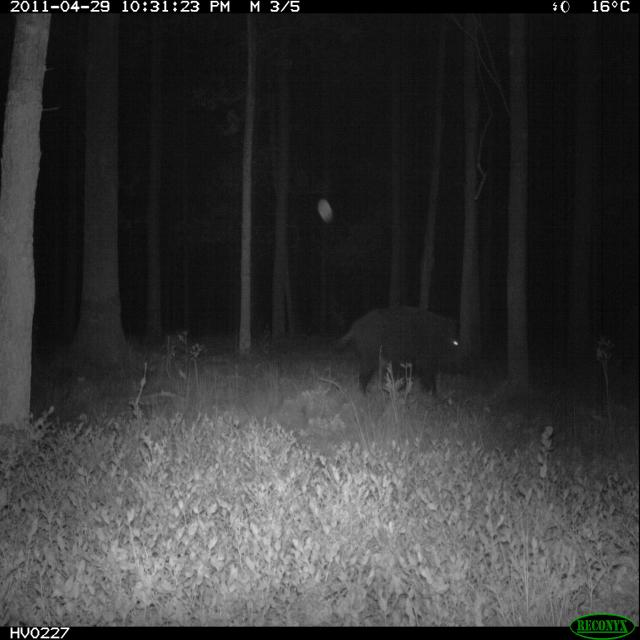boar: (324, 268, 474, 429)
